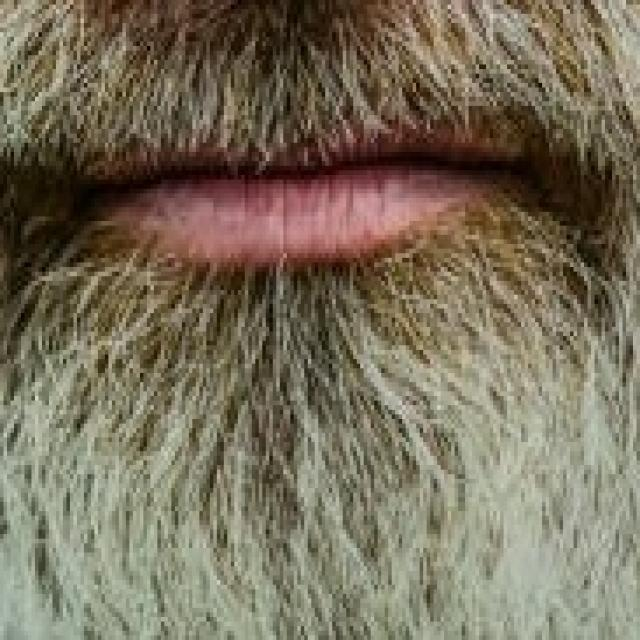closed-mouth: (71, 124, 524, 235)
